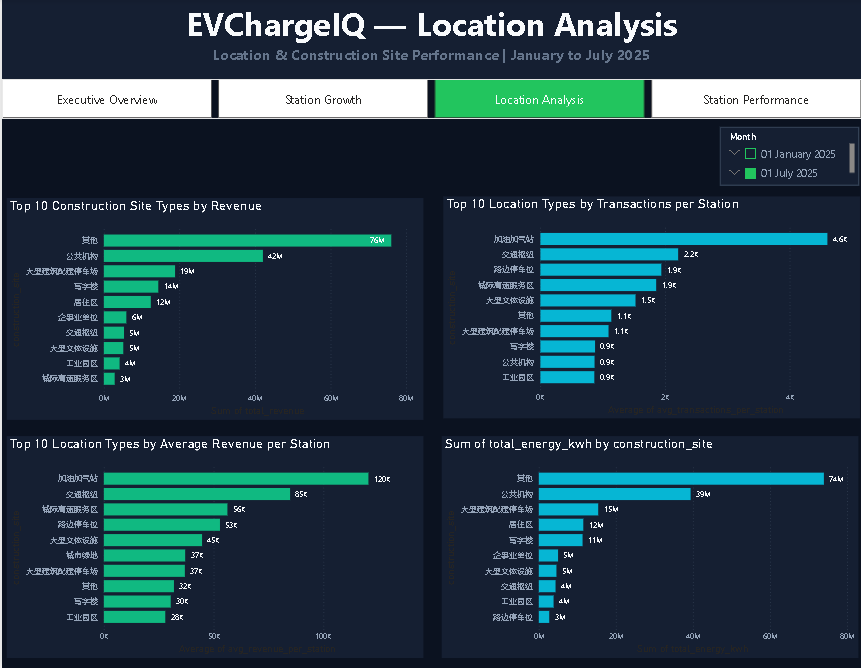

Layout of this report page (visuals, bound fields, positions):
{"tool":"powerbi","page":{"name":"Location Analysis","canvas":[1280,1000],"ordinal":2},"visuals":[{"type":"clusteredBarChart","title":"Top 10 Construction Site Types by Revenue","fields":{"Y":["Sum(construction_site_performance.total_revenue)"],"Category":["construction_site_performance.construction_site"]},"box":[5.9,296.4,620,330],"z":0},{"type":"clusteredBarChart","title":"Top 10 Location Types by Average Revenue per Station","fields":{"Y":["Avg(construction_site_performance.avg_revenue_per_station)"],"Category":["construction_site_performance.construction_site"]},"box":[5.9,651.8,620,330],"z":1000},{"type":"clusteredBarChart","title":"Top 10 Location Types by Transactions per Station","fields":{"Y":["Avg(construction_site_performance.avg_transactions_per_station)"],"Category":["construction_site_performance.construction_site"]},"box":[656,296,620,330],"z":2000},{"type":"clusteredBarChart","fields":{"Y":["Sum(construction_site_performance.total_energy_kwh)"],"Category":["construction_site_performance.construction_site"]},"box":[655.4,651.8,620,330],"z":3000},{"type":"slicer","fields":{"Values":["construction_site_performance.month","construction_site_performance.month.Variation.Date Hierarchy.Month"]},"box":[1068,192,208,88],"z":4000},{"type":"pageNavigator","box":[0,120.9,1279.1,58],"z":5000},{"type":"textbox","box":[0,0,1279,120],"z":6000}]}

Visuals, with their boxes in screenshot pixels (x1, y1, x2, y2), scaled from the page's 1280x1000 canvas onto the 861x668 screenshot:
"Top 10 Construction Site Types by Revenue" clusteredBarChart: BBox(4, 198, 421, 418)
"Top 10 Location Types by Average Revenue per Station" clusteredBarChart: BBox(4, 435, 421, 656)
"Top 10 Location Types by Transactions per Station" clusteredBarChart: BBox(441, 198, 858, 418)
clusteredBarChart - Sum(construction_site_performance.total_energy_kwh) x construction_site_performance.construction_site: BBox(441, 435, 858, 656)
slicer - construction_site_performance.month x construction_site_performance.month.Variation.Date Hierarchy.Month: BBox(718, 128, 858, 187)
pageNavigator: BBox(0, 81, 860, 120)
textbox: BBox(0, 0, 860, 80)
